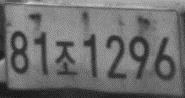1: (80, 31, 100, 79), (33, 30, 49, 76)
2: (104, 34, 127, 80)
6: (151, 34, 176, 81)
8: (9, 30, 30, 74)
9: (126, 34, 150, 81)
조: (52, 40, 78, 76)
